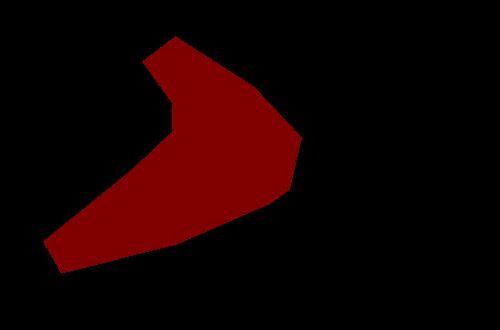fire: (43, 36, 301, 273)
